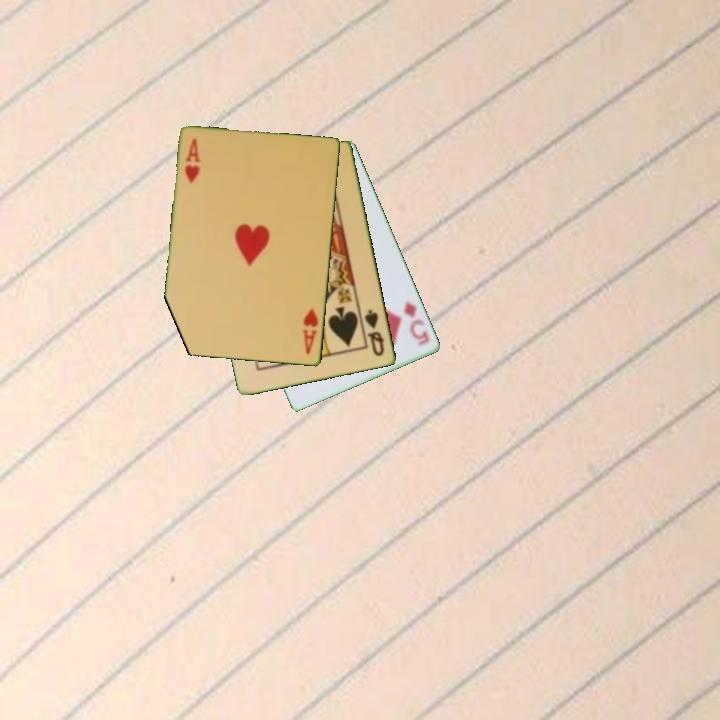5d: (401, 298, 433, 349)
Ah: (181, 135, 203, 186), (300, 305, 321, 357)
Qs: (361, 306, 388, 359)
